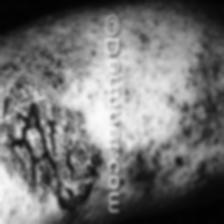Non-Cancerous Skin Condition: (0, 68, 100, 218), (128, 58, 224, 186)
